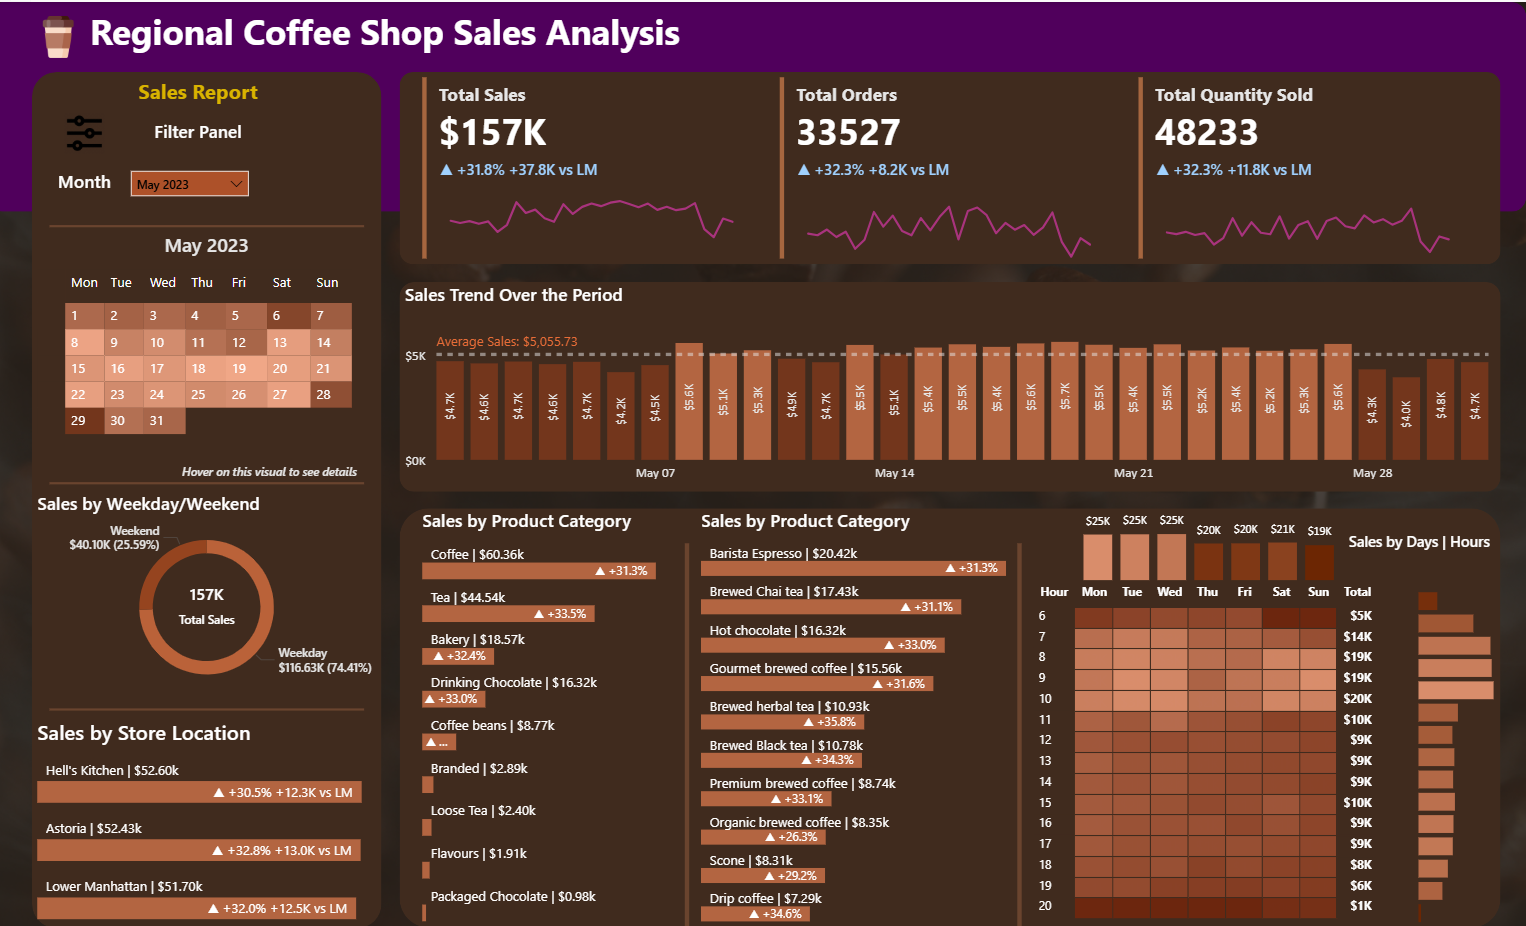

Layout of this report page (visuals, bound fields, positions):
{"tool":"powerbi","page":{"name":"Page 1","canvas":[1400,850],"ordinal":0},"visuals":[{"type":"shape","box":[-8,0,1408,192],"z":0},{"type":"shape","box":[32,64,320,784],"z":1000},{"type":"shape","box":[368,64,1008,176],"z":2000},{"type":"textbox","box":[80,0,576,64],"z":3000},{"type":"cardVisual","fields":{"Data":["Transactions.Total Sales"]},"box":[384,64,304,176],"z":4000,"group":"g1"},{"type":"cardVisual","fields":{"Data":["Transactions.Total Orders"]},"box":[712,64,304,176],"z":4000,"group":"g2"},{"type":"cardVisual","fields":{"Data":["Transactions.Total Quantity Sold"]},"box":[1040,64,304,176],"z":4000,"group":"g3"},{"type":"slicer","fields":{"Values":["Date Table.Month Year"]},"box":[112,144,128,48],"z":4000},{"type":"group","id":"g1","title":"Group 1","box":[384,64,304,176],"z":5000},{"type":"group","id":"g2","title":"Group 1","box":[712,64,304,176],"z":6000},{"type":"lineChart","fields":{"Y":["Transactions.Total Sales"],"Category":["Date Table.Date.Variation.Date Hierarchy.Year","Date Table.Date.Variation.Date Hierarchy.Quarter","Date Table.Date.Variation.Date Hierarchy.Month","Date Table.Date.Variation.Date Hierarchy.Day"]},"box":[400,144,288,96],"z":6000,"group":"g1"},{"type":"lineChart","fields":{"Category":["Date Table.Date.Variation.Date Hierarchy.Year","Date Table.Date.Variation.Date Hierarchy.Quarter","Date Table.Date.Variation.Date Hierarchy.Month","Date Table.Date.Variation.Date Hierarchy.Day"],"Y":["Transactions.Total Orders"]},"box":[728,144,288,96],"z":6000,"group":"g2"},{"type":"lineChart","fields":{"Category":["Date Table.Date.Variation.Date Hierarchy.Year","Date Table.Date.Variation.Date Hierarchy.Quarter","Date Table.Date.Variation.Date Hierarchy.Month","Date Table.Date.Variation.Date Hierarchy.Day"],"Y":["Transactions.Total Quantity Sold"]},"box":[1056,144,288,96],"z":6000,"group":"g3"},{"type":"group","id":"g3","title":"Group 1","box":[1040,64,304,176],"z":7000},{"type":"pivotTable","fields":{"Rows":["Date Table.Week Number"],"Columns":["Date Table.Day Name"],"Values":["Min(Date Table.Day Number)"]},"box":[32,240,320,192],"z":8000},{"type":"card","fields":{"Values":["Transactions.Foot Note"]},"box":[144,400,208,64],"z":9000},{"type":"card","fields":{"Values":["Min(Date Table.Month Year)"]},"box":[64,208,256,32],"z":10000},{"type":"shape","box":[48,432,288,16],"z":11000},{"type":"shape","box":[48,176,288,58],"z":12000},{"type":"donutChart","title":"Sales by Weekday/Weekend","fields":{"Category":["Date Table.Weekday / Weekend"],"Y":["Transactions.Total Sales"]},"box":[32,448,320,192],"z":13000},{"type":"card","fields":{"Values":["Transactions.Total Sales"]},"box":[144,528,96,48],"z":14000},{"type":"shape","box":[48,640,288,16],"z":15000},{"type":"clusteredBarChart","title":"Sales by Store Location","fields":{"Category":["Transactions.store_location"],"Y":["Transactions.Placeholder","Transactions.Total Sales"]},"box":[32,656,336,192],"z":16000},{"type":"shape","box":[368,256,1008,192],"z":17000},{"type":"columnChart","title":"Sales Trend Over the Period","fields":{"Category":["Transactions.transaction_date"],"Y":["Transactions.Total Sales"]},"box":[368,256,1008,192],"z":18000},{"type":"shape","box":[368,464,1008,384],"z":19000},{"type":"clusteredBarChart","title":"Sales by Product Category","fields":{"Y":["Transactions.Placeholder","Transactions.Total Sales"],"Category":["Transactions.product_category"]},"box":[384,464,256,384],"z":20000},{"type":"shape","box":[624,496,16,352],"z":21000},{"type":"clusteredBarChart","title":"Sales by Product Category","fields":{"Y":["Transactions.Placeholder","Transactions.Total Sales"],"Category":["Transactions.product_type"]},"box":[640,464,320,384],"z":22000},{"type":"shape","box":[928,496,16,352],"z":23000},{"type":"pivotTable","fields":{"Rows":["Transactions.Hour"],"Columns":["Date Table.Day Name"],"Values":["Transactions.Total Sales"]},"box":[944,528,352,320],"z":24000},{"type":"barChart","fields":{"Category":["Transactions.Hour"],"Y":["Transactions.Total Sales"]},"box":[1296,528,80,320],"z":25000},{"type":"columnChart","title":"Sales by Days | Hours","fields":{"Category":["Date Table.Day Name"],"Y":["Transactions.Total Sales"]},"box":[990,455,240,80],"z":26000},{"type":"textbox","box":[1232,480,144,48],"z":27000},{"type":"textbox","box":[48,148,64,32],"z":28000},{"type":"textbox","box":[112,64,144,48],"z":29000},{"type":"textbox","box":[112,102,144,32],"z":29001},{"type":"image","box":[48,96,64,48],"z":29002},{"type":"image","box":[32,0,48,64],"z":29003}]}

Visuals, with their boxes in screenshot pixels (x1, y1, x2, y2), scaled from the page's 1400x850 canvas onto the 1526x926 screenshot:
shape: 0,0,1525,209
shape: 35,70,384,924
shape: 401,70,1500,261
textbox: 87,0,715,70
cardVisual - Transactions.Total Sales: 419,70,750,261
cardVisual - Transactions.Total Orders: 776,70,1107,261
cardVisual - Transactions.Total Quantity Sold: 1134,70,1465,261
slicer - Date Table.Month Year: 122,157,262,209
"Group 1" group: 419,70,750,261
"Group 1" group: 776,70,1107,261
lineChart - Transactions.Total Sales x Date Table.Date.Variation.Date Hierarchy.Year: 436,157,750,261
lineChart - Date Table.Date.Variation.Date Hierarchy.Year x Date Table.Date.Variation.Date Hierarchy.Quarter: 794,157,1107,261
lineChart - Date Table.Date.Variation.Date Hierarchy.Year x Date Table.Date.Variation.Date Hierarchy.Quarter: 1151,157,1465,261
"Group 1" group: 1134,70,1465,261
pivotTable - Date Table.Week Number x Date Table.Day Name: 35,261,384,471
card - Transactions.Foot Note: 157,436,384,505
card - Min(Date Table.Month Year): 70,227,349,261
shape: 52,471,366,488
shape: 52,192,366,255
"Sales by Weekday/Weekend" donutChart: 35,488,384,697
card - Transactions.Total Sales: 157,575,262,628
shape: 52,697,366,715
"Sales by Store Location" clusteredBarChart: 35,715,401,924
shape: 401,279,1500,488
"Sales Trend Over the Period" columnChart: 401,279,1500,488
shape: 401,505,1500,924
"Sales by Product Category" clusteredBarChart: 419,505,698,924
shape: 680,540,698,924
"Sales by Product Category" clusteredBarChart: 698,505,1046,924
shape: 1012,540,1029,924
pivotTable - Transactions.Hour x Date Table.Day Name: 1029,575,1413,924
barChart - Transactions.Hour x Transactions.Total Sales: 1413,575,1500,924
"Sales by Days | Hours" columnChart: 1079,496,1341,583
textbox: 1343,523,1500,575
textbox: 52,161,122,196
textbox: 122,70,279,122
textbox: 122,111,279,146
image: 52,105,122,157
image: 35,0,87,70
